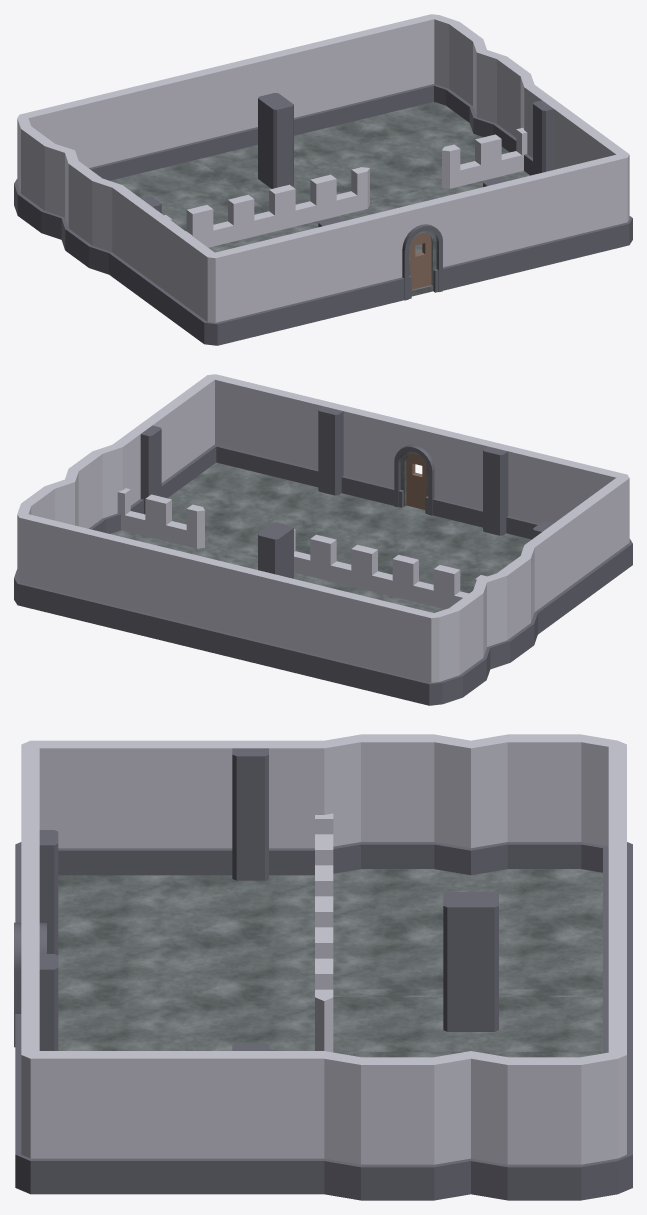
File: room_sm_02.fbx
3 renders of one model, top to bottom at view 1: azimuth 30°, elevation 25°; view 2: azimuth 150°, elevation 25°; view 3: azimuth 270°, elevation 25°, orthographic. The views are drawn at different scales.
Visible parts, largest first — view 1: wall_01_40, wall_02_38, wall_01_39, wall_02_37, door_01_23, wall_01_69, wall_01_46, floor_05_61, wall_01_68, wall_01_67, wall_01_41, wall_02_66 (+19 smaller); view 2: floor_01_30, wall_01_45, wall_01_67, wall_01_46, wall_01_68, wall_01_69, wall_02_37, wall_02_38, door_01_23, wall_01_39, wall_02_66, floor_04_2 (+17 smaller); view 3: floor_01_33, wall_02_65, wall_03_56, wall_01_50, wall_03_55, wall_02_66, wall_03_57, wall_03_58, wall_01_41, floor_04_2, floor_04_64, floor_05_59 (+17 smaller).
Part boxes in pixels (box(x1,y1,x2,y2)): wall_01_40: box(204, 234, 299, 345); wall_02_38: box(291, 214, 383, 325); wall_01_39: box(537, 154, 631, 265); wall_02_37: box(455, 173, 547, 285); door_01_23: box(373, 193, 465, 305); wall_01_69: box(100, 74, 191, 180); wall_01_46: box(347, 14, 439, 120); floor_05_61: box(294, 102, 477, 168); wall_01_68: box(183, 54, 272, 160); wall_01_67: box(264, 34, 357, 135); wall_01_41: box(156, 219, 217, 345); wall_02_66: box(109, 185, 169, 308); floor_01_30: box(168, 462, 366, 558); wall_01_45: box(346, 594, 442, 705); wall_01_67: box(100, 533, 191, 645); wall_01_46: box(16, 513, 108, 625); wall_01_68: box(182, 553, 274, 665); wall_01_69: box(263, 573, 356, 685); wall_02_37: box(289, 394, 381, 500); wall_02_38: box(454, 434, 546, 539); door_01_23: box(371, 414, 464, 520); wall_01_39: box(207, 374, 299, 480); wall_02_66: box(524, 510, 585, 634); floor_04_2: box(297, 499, 459, 573); floor_01_33: box(58, 875, 314, 996); wall_02_65: box(172, 1043, 329, 1194); wall_03_56: box(466, 1051, 632, 1200); wall_01_50: box(16, 1051, 185, 1194); wall_03_55: box(315, 1051, 479, 1200); wall_02_66: box(173, 740, 326, 880); wall_03_57: box(315, 734, 479, 875); wall_03_58: box(462, 734, 629, 875); wall_01_41: box(17, 740, 185, 875); floor_04_2: box(58, 989, 314, 1050); floor_04_64: box(333, 989, 602, 1052); floor_05_59: box(333, 869, 480, 996).
Bounding box in the file's own units: 54.05 × 10 × 42.15.
